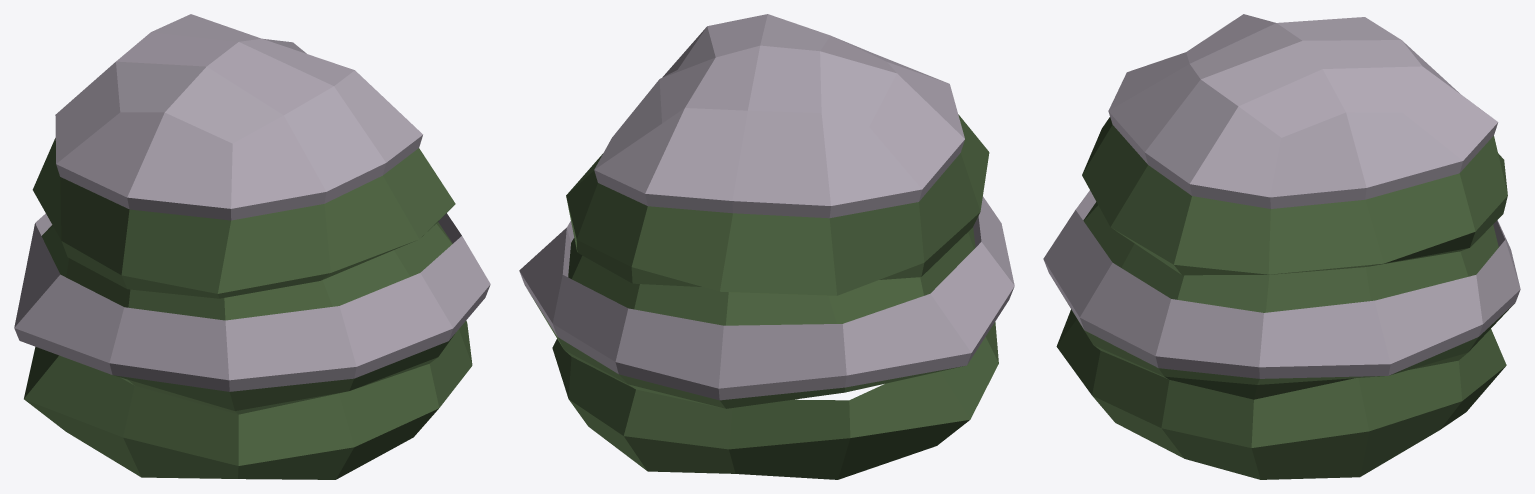
Rendered from bush_snow2.glb.
The picture shows the model from 3 angles, left to right: view 1: azimuth 30°, elevation 25°; view 2: azimuth 150°, elevation 25°; view 3: azimuth 270°, elevation 25°; orthographic projection. The views are drawn at different scales.
Visible parts, largest first — view 1: Bush_Snow_2; view 2: Bush_Snow_2; view 3: Bush_Snow_2.
Boxes of the visible parts, x1,y1,x2,y2 form: Bush_Snow_2: [14, 14, 490, 479]; Bush_Snow_2: [519, 14, 1014, 479]; Bush_Snow_2: [1043, 14, 1520, 479].
Bounding box in the file's own units: 1.36 × 1.16 × 1.36.
